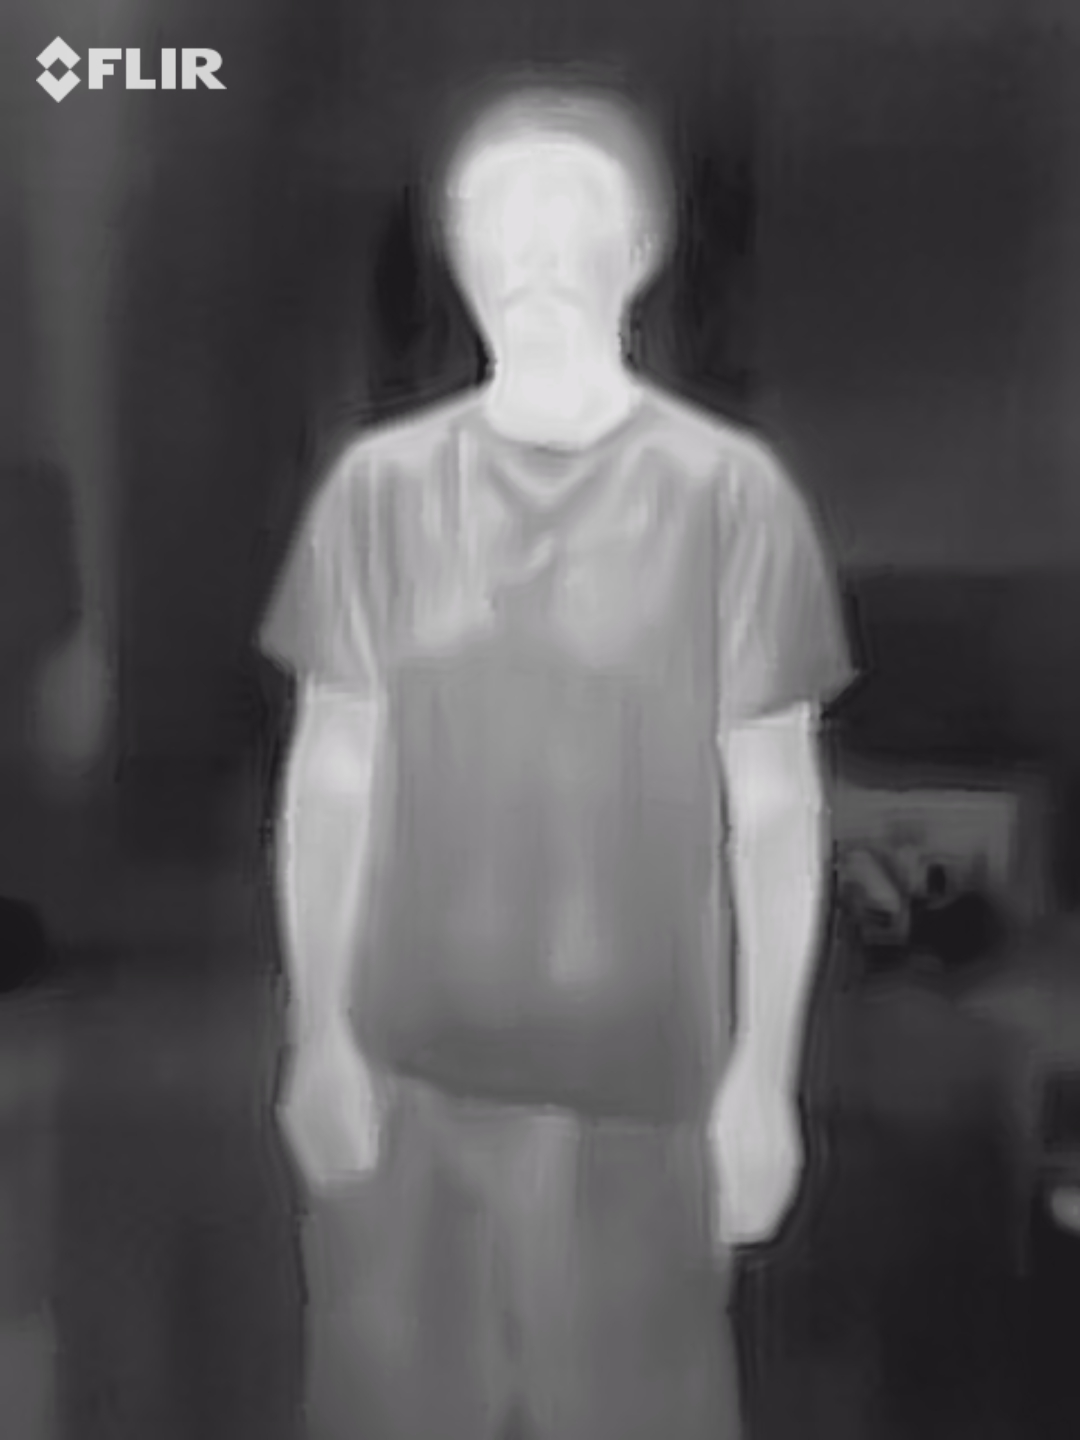head: (441, 85, 670, 376)
